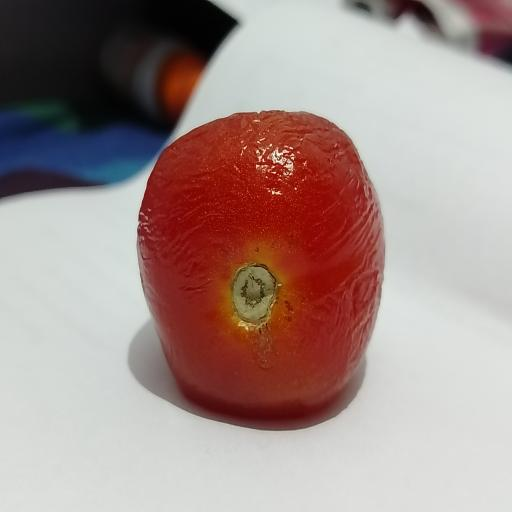spoiled: (137, 111, 384, 416)
